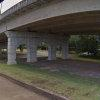Bridge: (7, 1, 100, 65)
